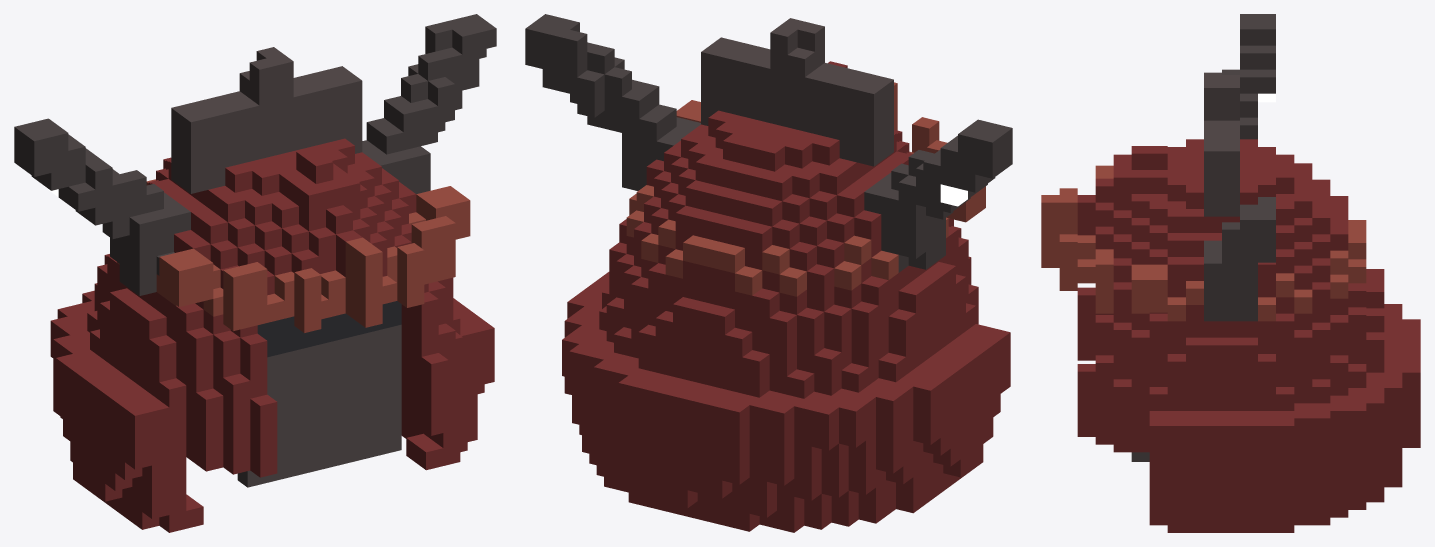
The model's file is cloth_masterwork_helmet_lod1.glb.
3 views of the same model, side by side, from view 1: azimuth 30°, elevation 25°; view 2: azimuth 150°, elevation 25°; view 3: azimuth 270°, elevation 25° (orthographic). The views are drawn at different scales.
Parts seen in each view (by area): view 1: cloth_masterwork_helmet_lod1; view 2: cloth_masterwork_helmet_lod1; view 3: cloth_masterwork_helmet_lod1.
Boxes of the visible parts, left/top/right/bottom form: cloth_masterwork_helmet_lod1: left=14, top=14, right=496, bottom=532; cloth_masterwork_helmet_lod1: left=525, top=14, right=1012, bottom=532; cloth_masterwork_helmet_lod1: left=1041, top=14, right=1420, bottom=532.
Size of the model in its own units: 0.648 by 0.552 by 0.504.
